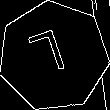L_S: (31, 28, 76, 85)
